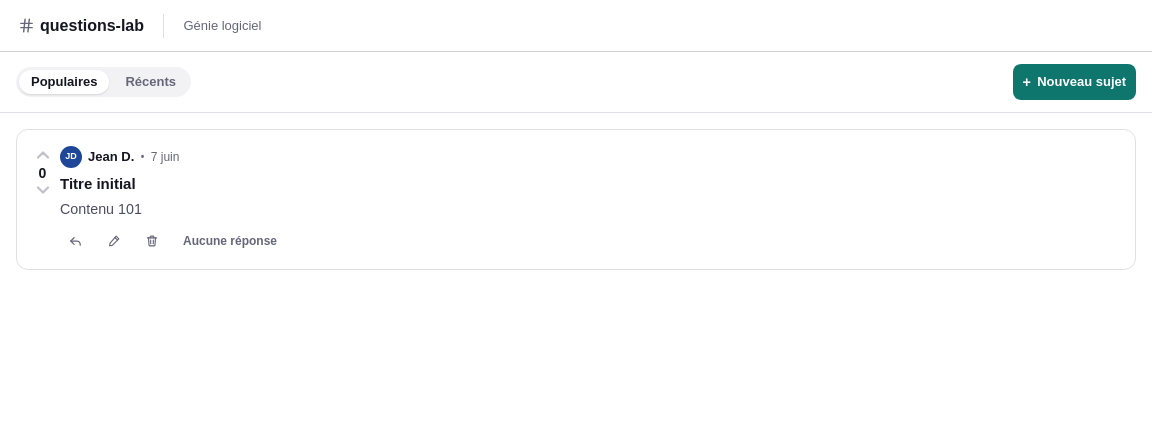
it: ForumView › modifier un sujet ouvre un éditeur inline avec le titre courant
Expected: the heading "Titre initial" is shown, [60,175,136,192]
Click the button named "Modifier". click: (114, 241)
box: [99,229,129,253]
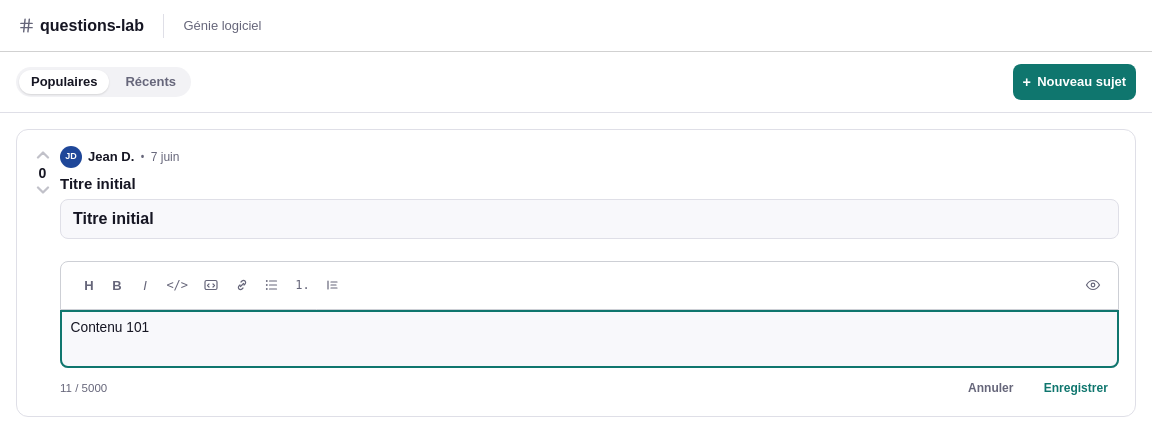
Expected: the field named "Titre du sujet" holds "Titre initial", [60,199,1119,238]
